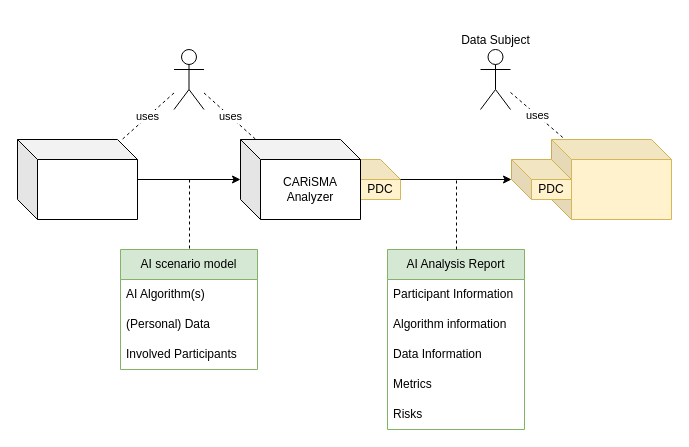
Some shapes in this 689 by 447 pixel diagram are drawn without their labels. Each missing label, with the centre of its shape:
CARiSMA Modeler: point 77,179
Use Case Lead AI Expert: point 188,79
Visualization BB: point 611,179
